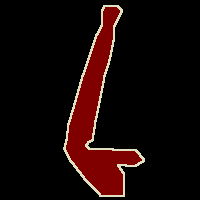tie: (64, 6, 144, 196)
